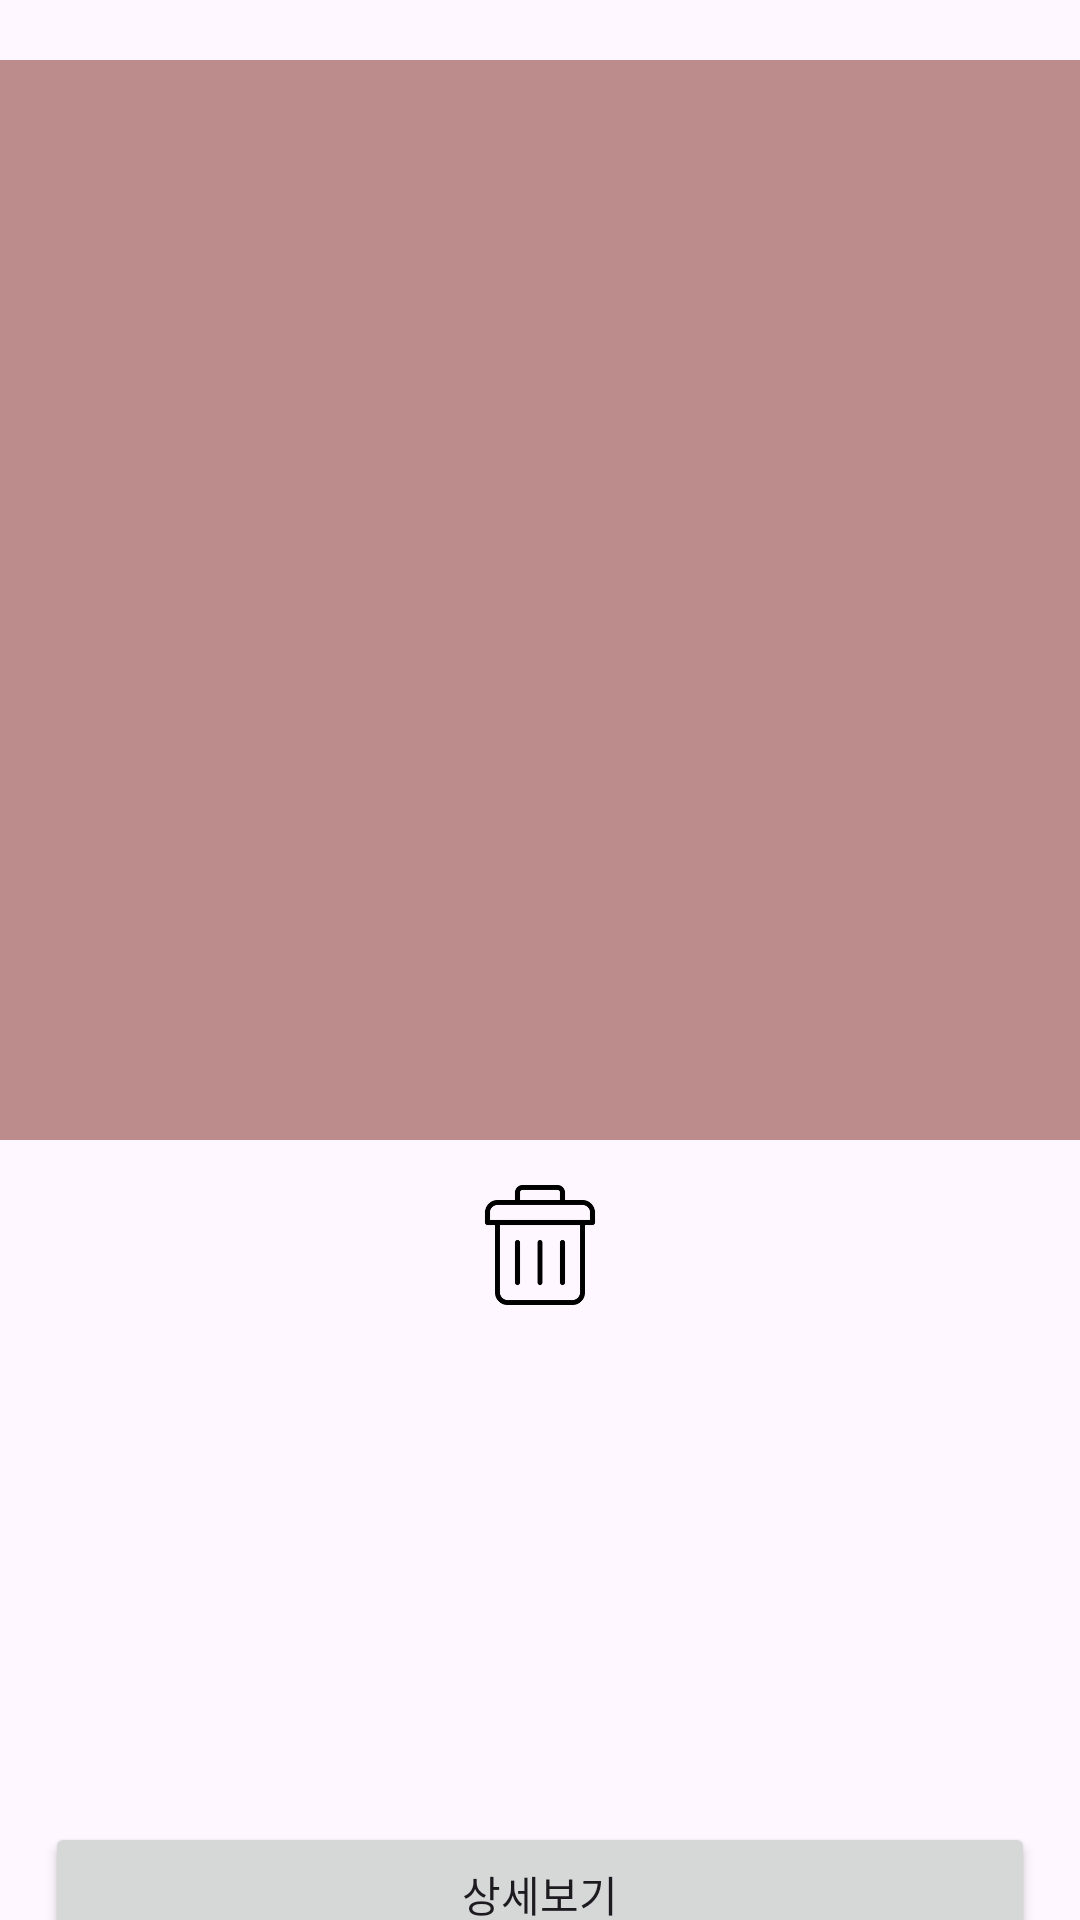

Icons on this 1080px x 1920px Android screen, each with the point to tap as point (x, y):
delete: point (540, 1245)
